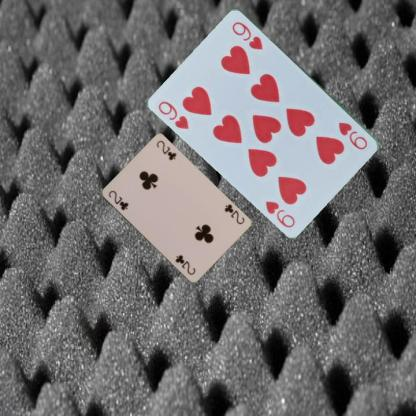2c: (221, 202, 246, 225), (106, 188, 129, 211)
9h: (156, 98, 191, 131), (336, 119, 369, 151)
